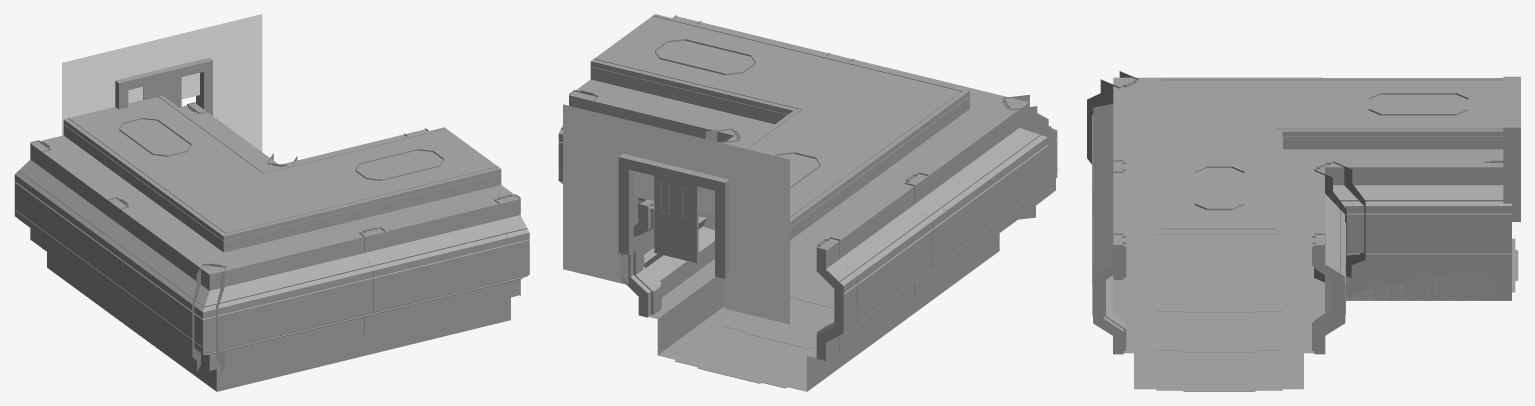
The model's file is Conexiones.fbx.
The picture shows the model from 3 angles, left to right: view 1: azimuth 30°, elevation 25°; view 2: azimuth 150°, elevation 25°; view 3: azimuth 270°, elevation 25°; orthographic projection. The views are drawn at different scales.
Visible parts, largest first — view 1: ConexionB, RellenoConexiones, ConexionA, MarcoPuerta, PuertaDere; view 2: ConexionB, ConexionA, RellenoConexiones, MarcoPuerta, PuertaDere, PuertaIzq; view 3: ConexionB, ConexionA, MarcoPuerta.
Part boxes in pixels (x1,y1,x2,y2): ConexionB: (14, 96, 529, 391); RellenoConexiones: (62, 14, 262, 151); ConexionA: (14, 96, 245, 328); MarcoPuerta: (115, 57, 212, 115); PuertaDere: (143, 77, 181, 107); ConexionB: (558, 14, 1058, 391); ConexionA: (621, 126, 939, 391); RellenoConexiones: (563, 104, 789, 324); MarcoPuerta: (618, 153, 729, 278); PuertaDere: (654, 176, 698, 263); PuertaIzq: (654, 176, 698, 262); ConexionB: (1087, 71, 1518, 391); ConexionA: (1325, 78, 1511, 300); MarcoPuerta: (1503, 76, 1520, 221).
Size of the model in its own units: 1014 by 581 by 1019.
